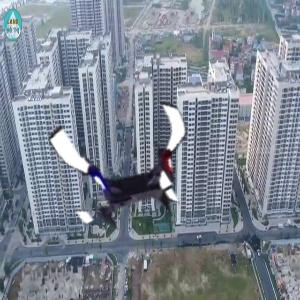drone: (55, 89, 205, 239)
